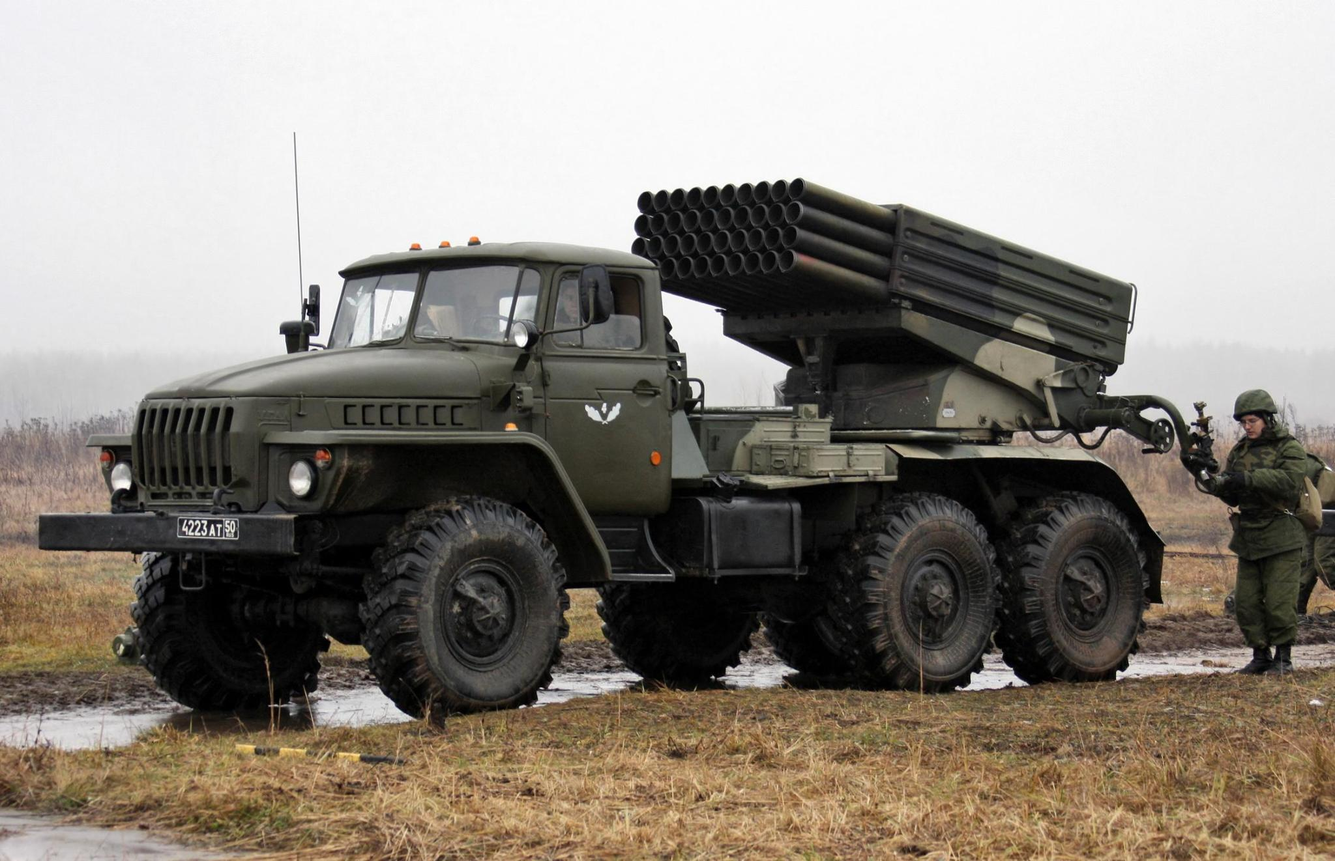rszo: (81, 138, 1167, 696)
